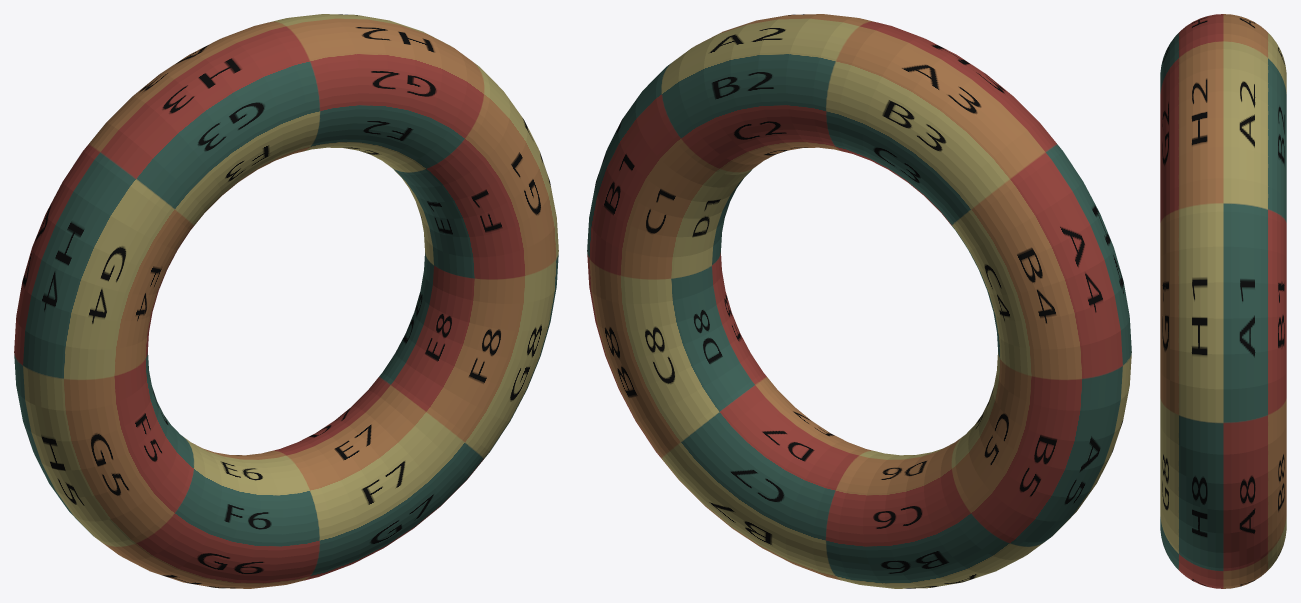
The model's file is texture_torus_R24_r20.glb.
The picture shows the model from 3 angles, left to right: view 1: azimuth 30°, elevation 25°; view 2: azimuth 150°, elevation 25°; view 3: azimuth 270°, elevation 25°; orthographic projection. The views are drawn at different scales.
Visible parts, largest first — view 1: world; view 2: world; view 3: world.
Part boxes in pixels (left/top/right/bottom): world: left=14, top=14, right=558, bottom=588; world: left=587, top=14, right=1131, bottom=588; world: left=1160, top=14, right=1286, bottom=588.
Bounding box in the file's own units: 33.33 × 33.27 × 7.32.
1 material, 1 textured.
